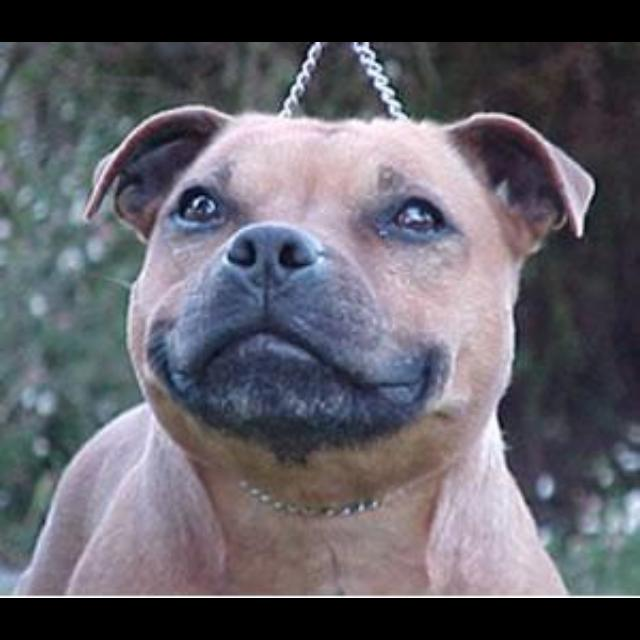staffford: (12, 103, 596, 595)
